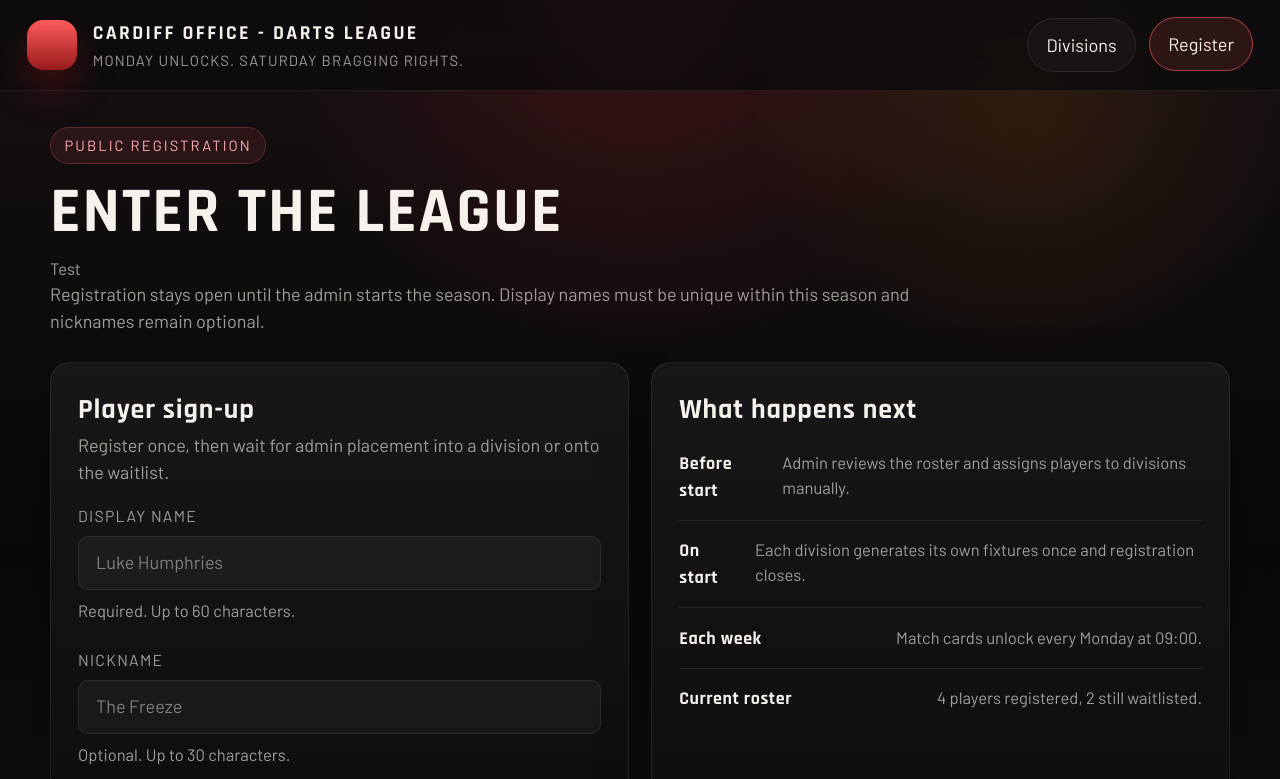
Test: renders returned names as text rather than HTML
The width and height of the screenshot is (1280, 779).
Type "A" into the field labelled "Display name" at (339, 563), box [78, 536, 601, 590]
(page scrolled)
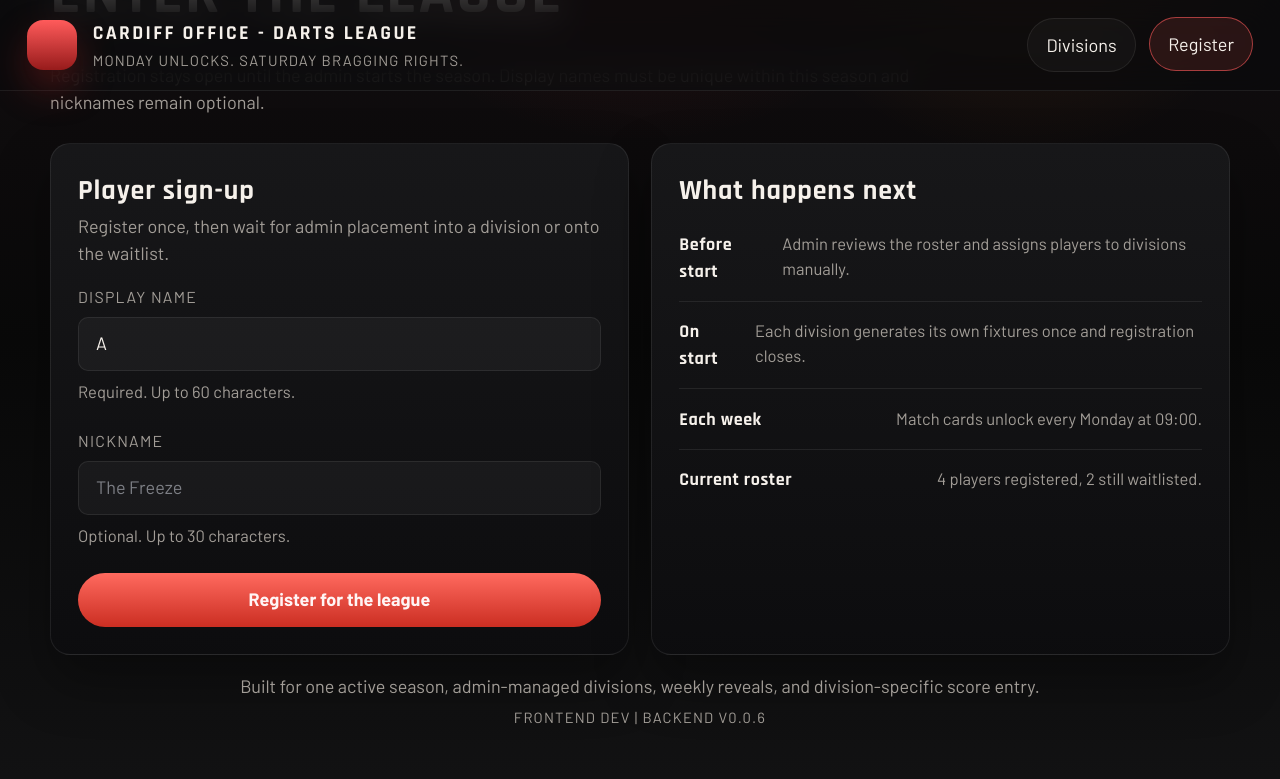
Click the button "Register for the league" at (339, 600), box [78, 573, 601, 627]
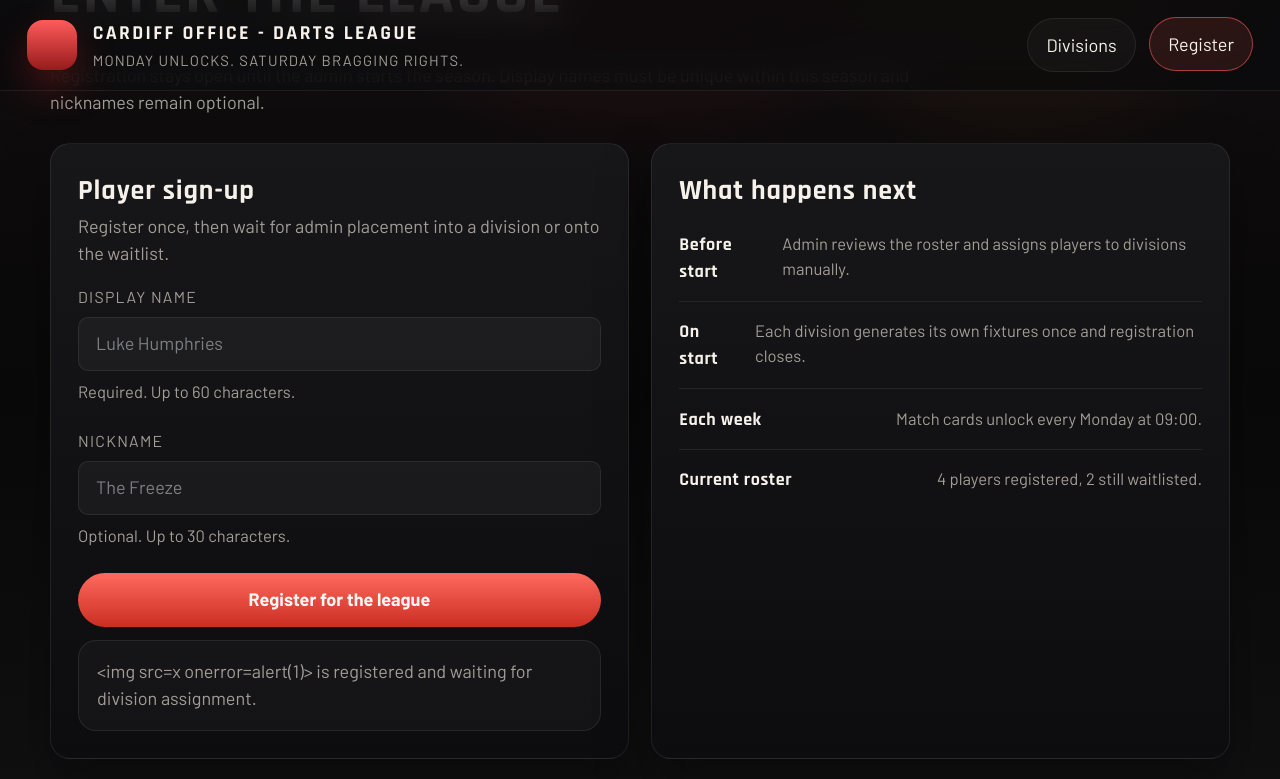
Result: the text "<img src=x onerror=alert(1)> is registered" is shown at [97, 660, 532, 710]
